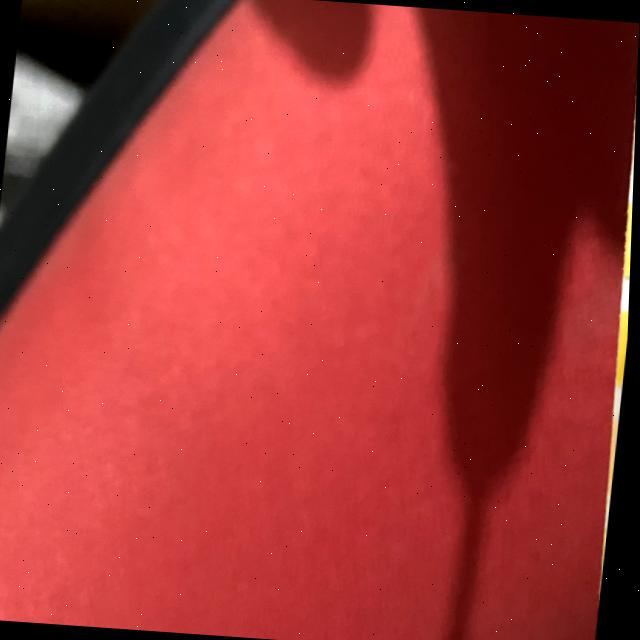Blood: (617, 310, 631, 379)
Ketone: (631, 94, 637, 164)
SpGravity: (624, 201, 634, 275)
pH: (612, 418, 622, 490)
